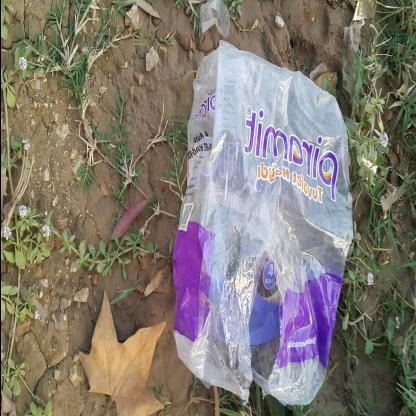plastik: (172, 37, 356, 409)
